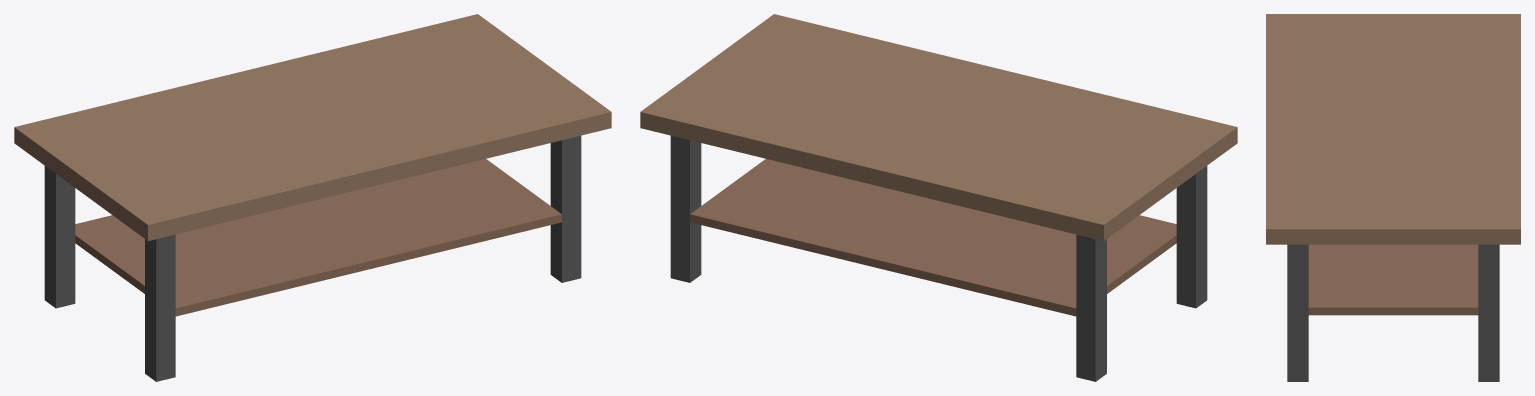
File: table_coffee.glb
3 views of the same model, side by side, from view 1: azimuth 30°, elevation 25°; view 2: azimuth 150°, elevation 25°; view 3: azimuth 270°, elevation 25° (orthographic). The views are drawn at different scales.
Bounding box in the file's own units: 1.2 × 0.42 × 0.6.
